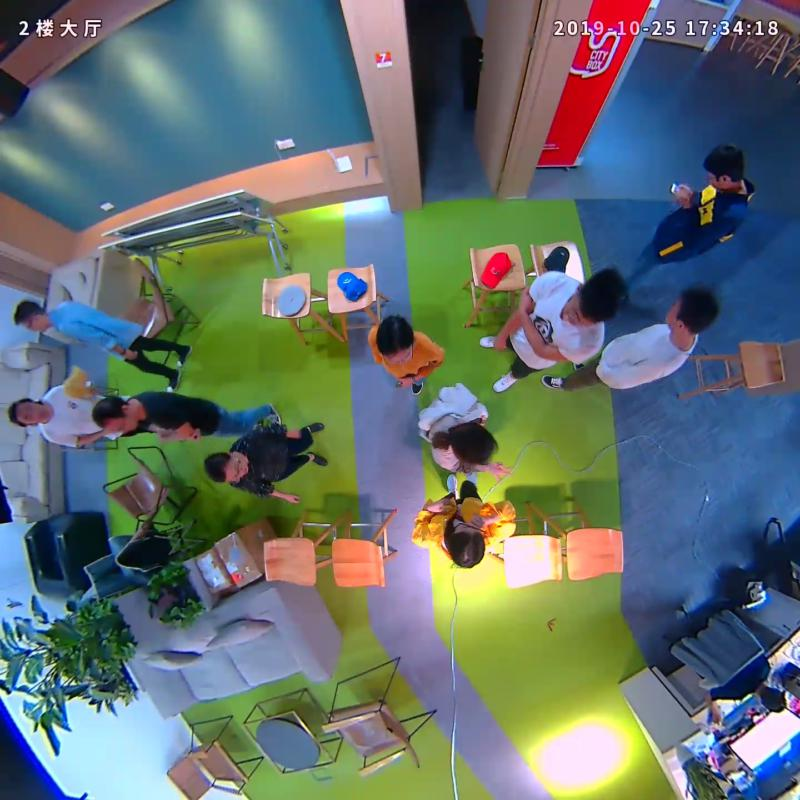head: (564, 271, 620, 327), (666, 286, 718, 334), (450, 422, 495, 466), (375, 316, 414, 365), (703, 144, 744, 190), (446, 522, 486, 568), (92, 394, 139, 433), (204, 451, 248, 483), (8, 397, 48, 427), (13, 301, 48, 333)
